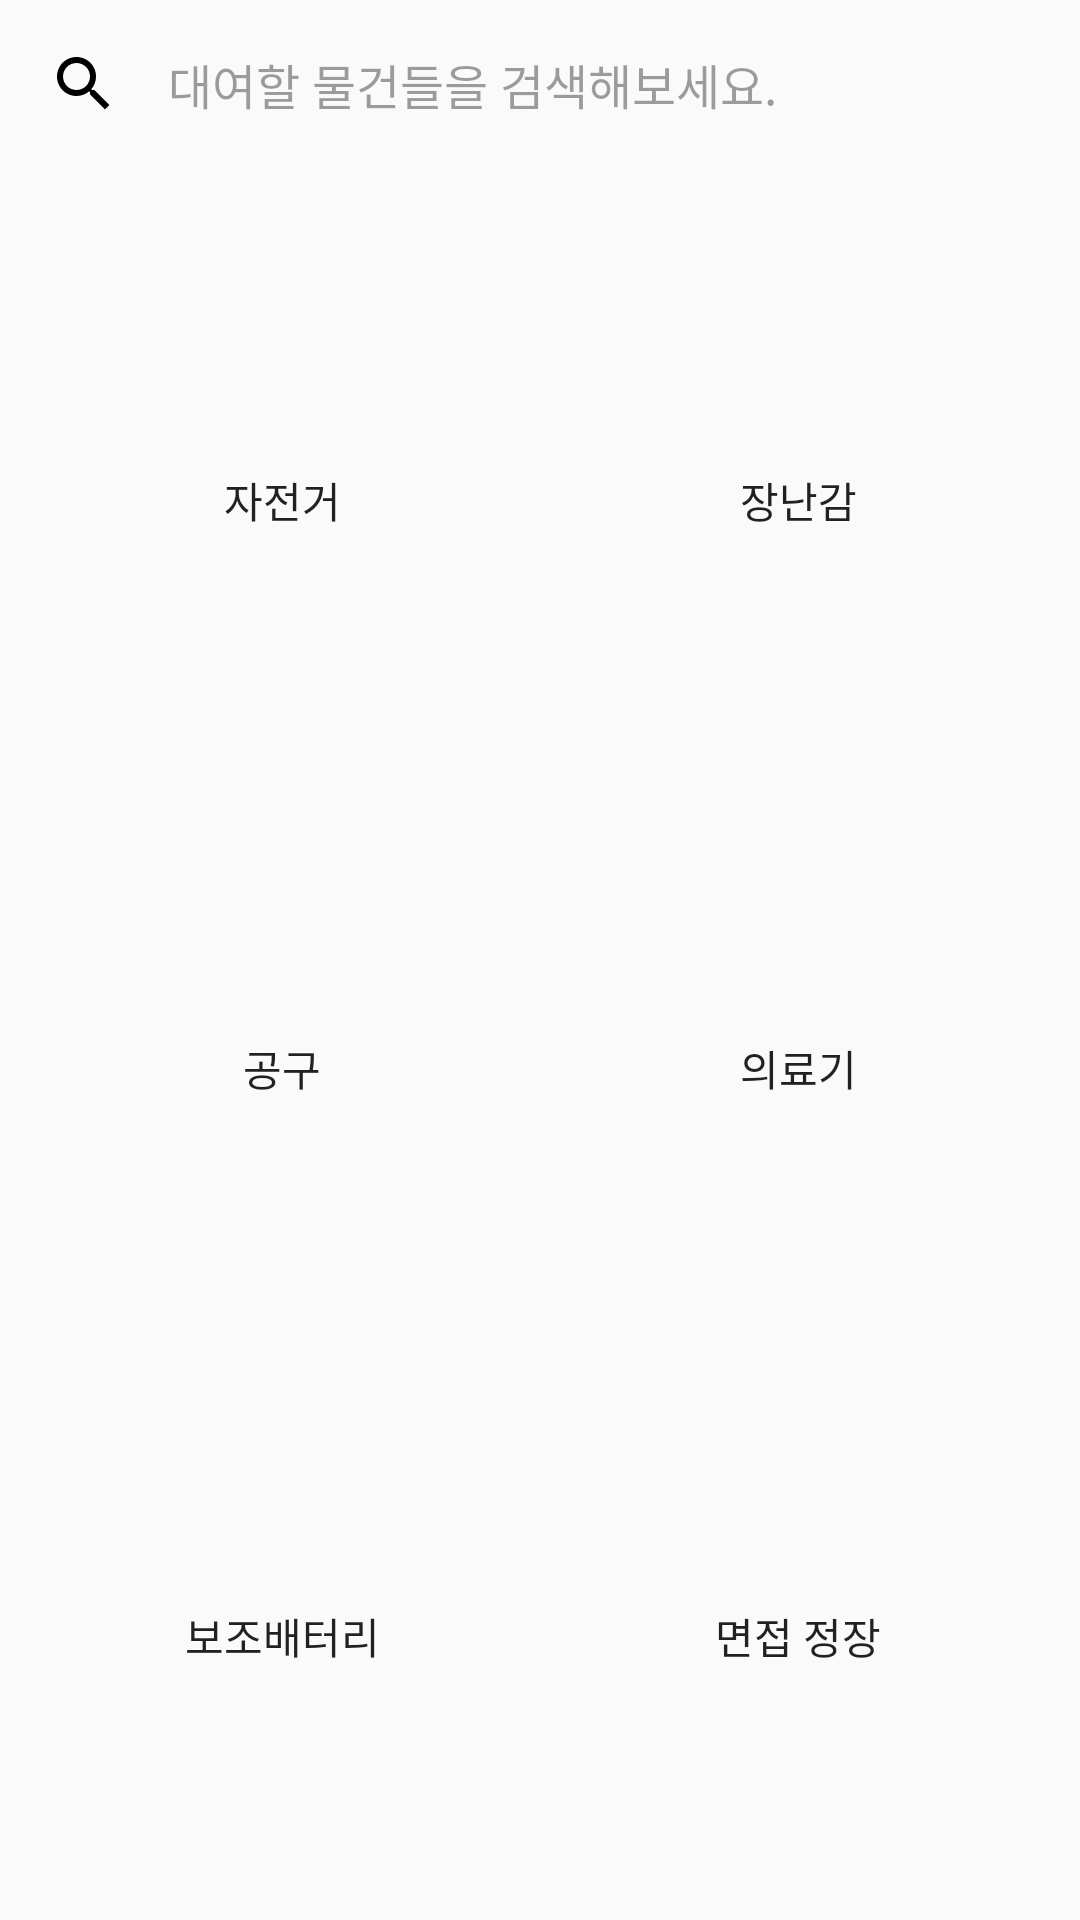

Named icons in this screenshot (1080*1920) and their centers, (x,y):
search: (83,83)
